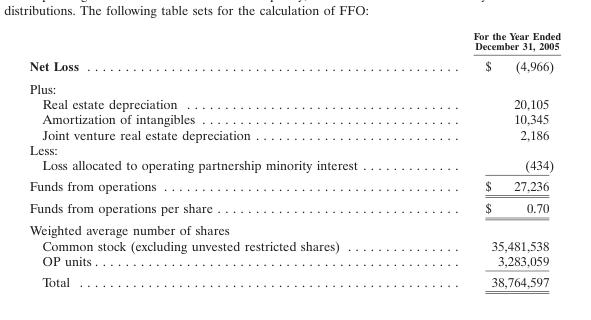table: (28, 29, 560, 288)
table column: (28, 29, 414, 288), (414, 29, 560, 288)
table column header: (28, 29, 560, 54)
table projected row header: (28, 76, 560, 95), (28, 218, 560, 237), (28, 141, 560, 157)
table row: (28, 29, 560, 54), (28, 54, 560, 76), (28, 196, 560, 218), (28, 175, 560, 196), (28, 76, 560, 95), (28, 218, 560, 237), (28, 157, 560, 175), (28, 252, 560, 270), (28, 270, 560, 288), (28, 95, 560, 111), (28, 141, 560, 157), (28, 111, 560, 126), (28, 126, 560, 141), (28, 237, 560, 252)
